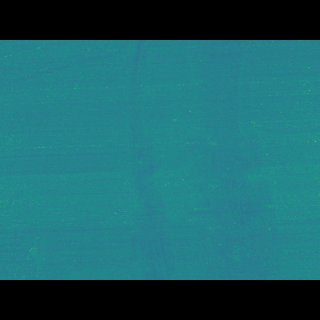Loch: (120, 70, 282, 248)
